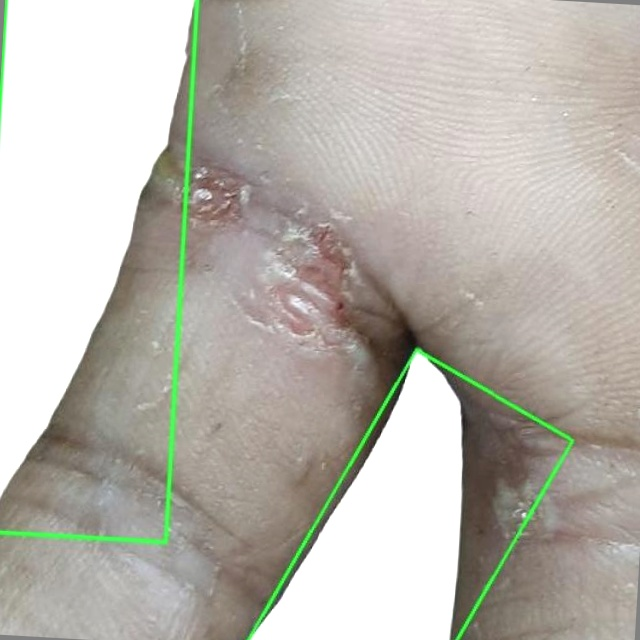Scabies: (0, 0, 197, 541), (249, 350, 573, 639)
